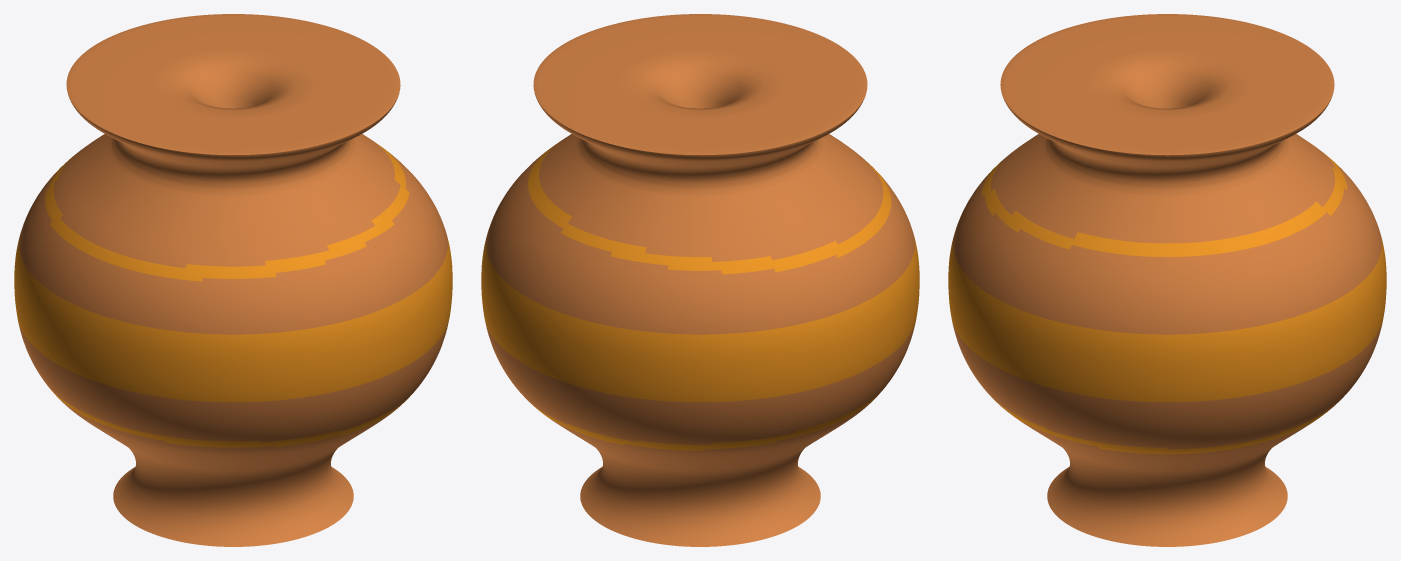
File: Jar.fbx
The picture shows the model from 3 angles, left to right: view 1: azimuth 30°, elevation 25°; view 2: azimuth 150°, elevation 25°; view 3: azimuth 270°, elevation 25°; orthographic projection.
Parts seen in each view (by area): view 1: Lathe; view 2: Lathe; view 3: Lathe.
Part boxes in pixels (bbox=[...]): Lathe: bbox=[14, 14, 452, 546]; Lathe: bbox=[481, 14, 919, 546]; Lathe: bbox=[948, 14, 1386, 546].
Bounding box in the file's own units: 227 × 236 × 227.
